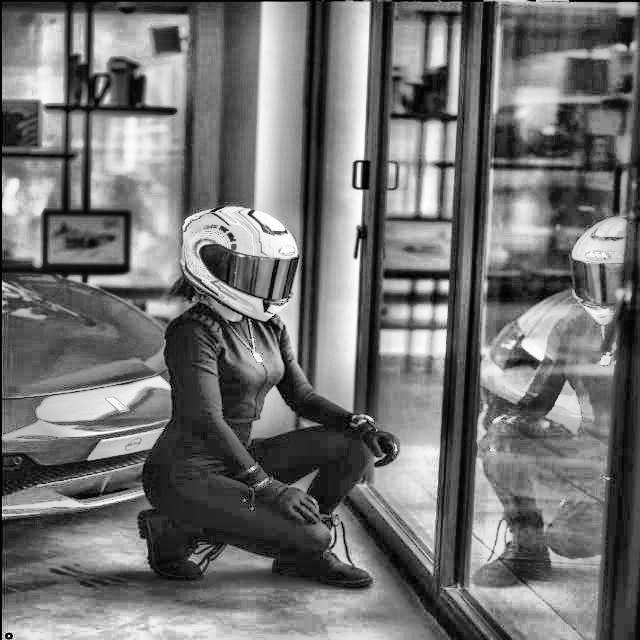Helmet: (176, 201, 302, 326)
